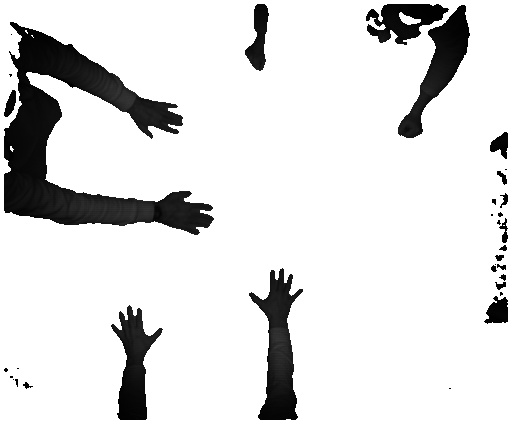fist: (392, 115, 423, 143), (240, 44, 271, 71)
hand: (248, 264, 303, 329), (104, 304, 167, 358), (162, 184, 215, 239), (135, 97, 183, 143)
